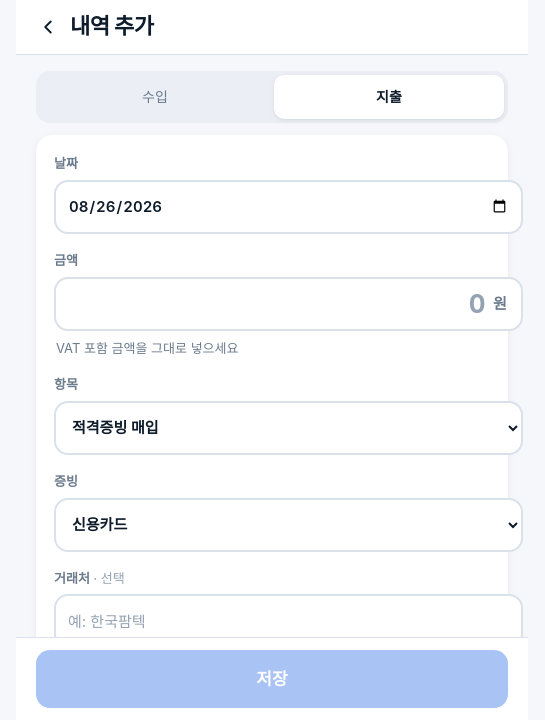
Test case: EntryForm — 저장 › 저장이 실패하면 화면을 떠나지 않고 이유를 띄운다
Step 1. Type "1000" into the field labelled "금액" → (278, 304), box [70,283,485,324]
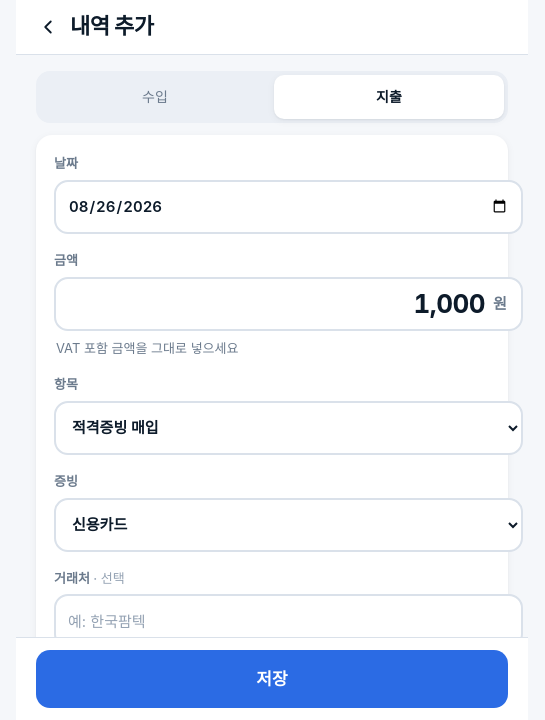
Step 2. Click the button "저장" → click(272, 679), box [36,650,508,708]
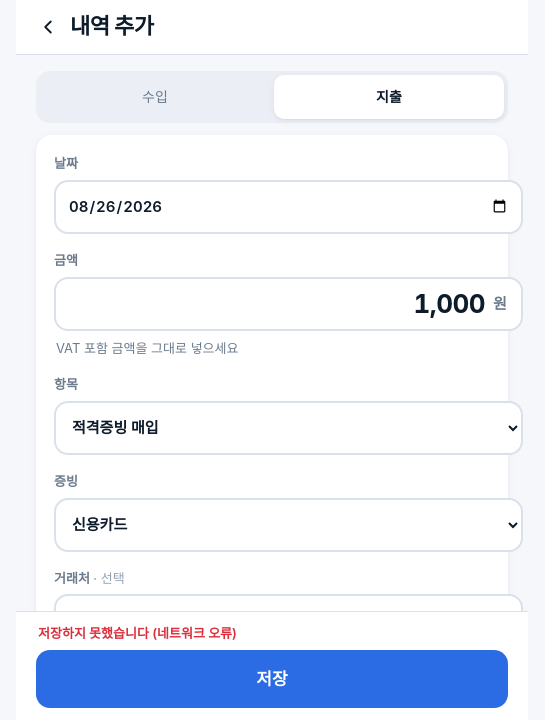
Check: the message reads "저장하지 못했습니다 (네트워크 오류)", box [38,626,237,642]
